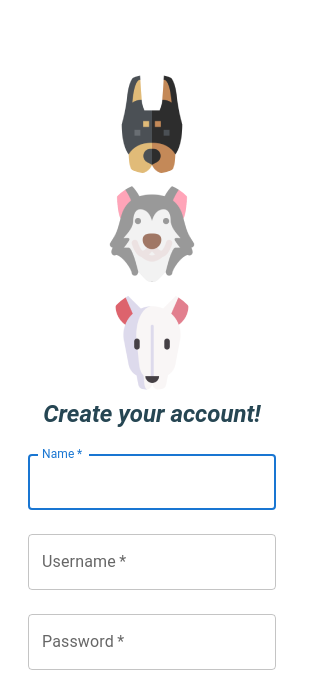
Test case: Given a RegisterForm component › When invoked and an user enters username, name, and password › Then it should set the button 'Register' state to enabled'
Step 1. Type "asdasdasd" into the field labelled "Name" → x=152, y=482, box [28,454,276,510]
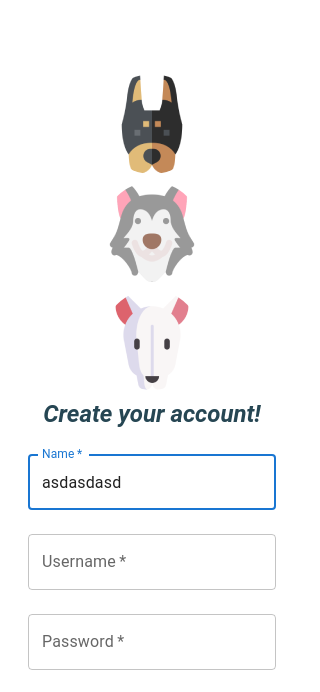
Step 2. Type "asdasdasd" into the field labelled "Username" → x=152, y=562, box [28,534,276,590]
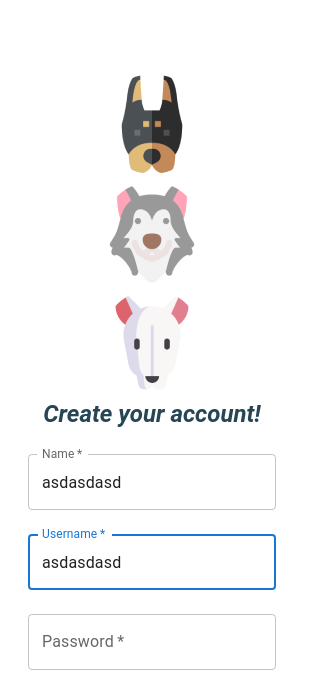
Step 3. Type "asdasdasd" into the password field labelled "Password *" → x=152, y=642, box [28,614,276,670]
(page scrolled)
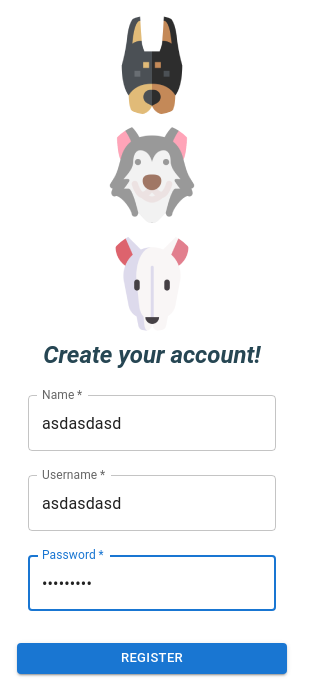
Expected: the button "Register" is enabled, [17,643,287,674]
